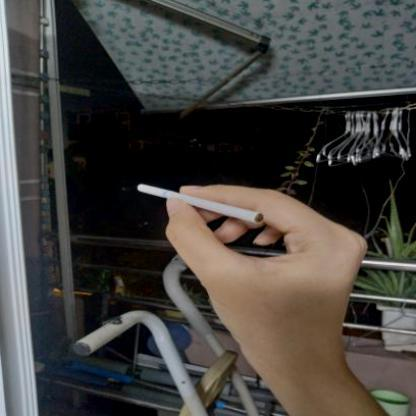cigarette: (135, 182, 267, 227)
